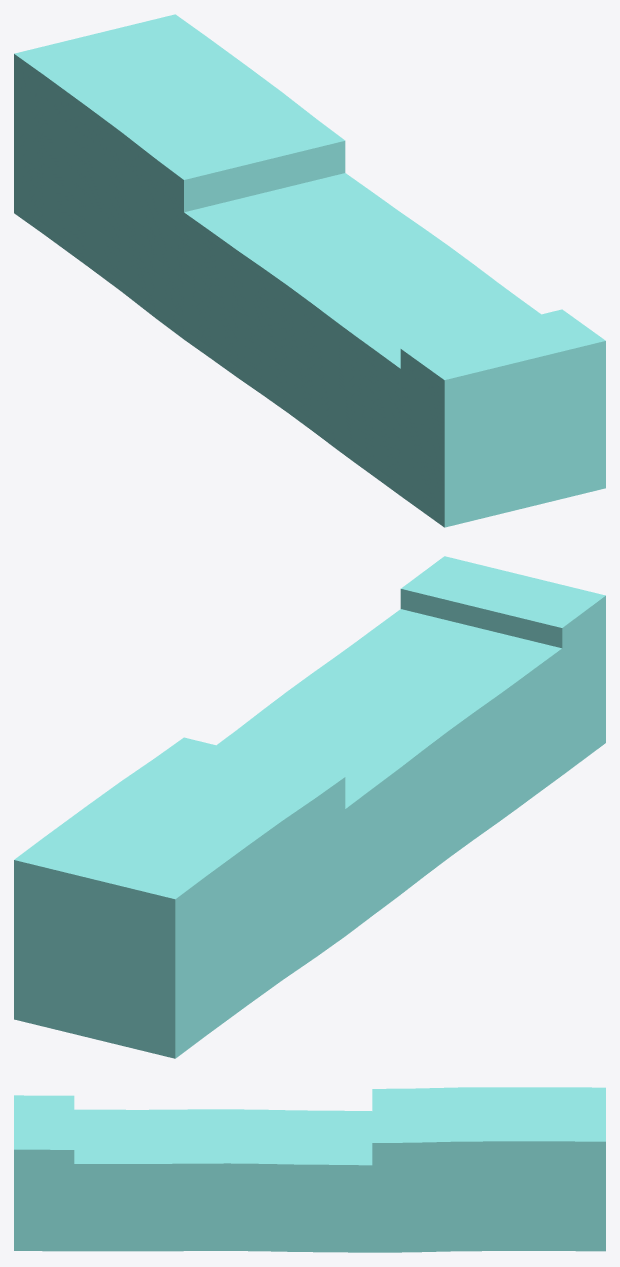
Rendered from water idle.fbx.
3 renders of one model, top to bottom at view 1: azimuth 30°, elevation 25°; view 2: azimuth 150°, elevation 25°; view 3: azimuth 270°, elevation 25°, orthographic. The views are drawn at different scales.
Parts seen in each view (by area): view 1: water idle; view 2: water idle; view 3: water idle.
Boxes of the visible parts, x1=… form: water idle: x1=14, y1=14, x2=605, y2=527; water idle: x1=14, y1=556, x2=605, y2=1058; water idle: x1=14, y1=1087, x2=605, y2=1252.
Size of the model in its own units: 13114 by 12580 by 60577.
